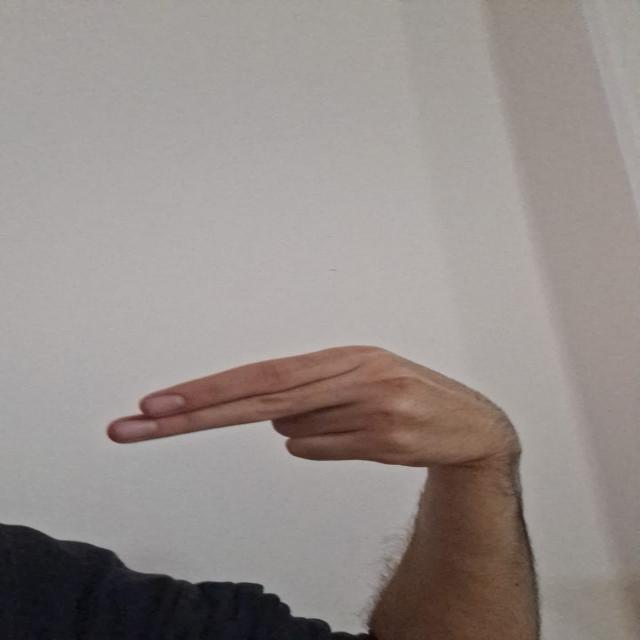N: (101, 338, 533, 474)
